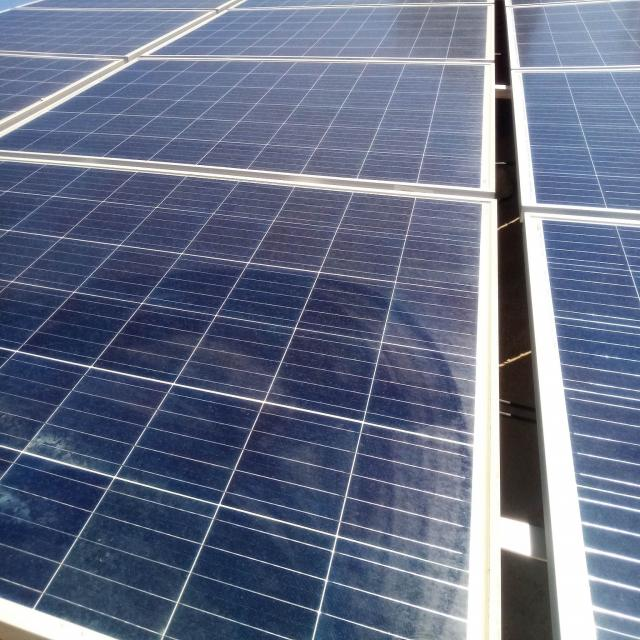faulty: (7, 178, 476, 640)
